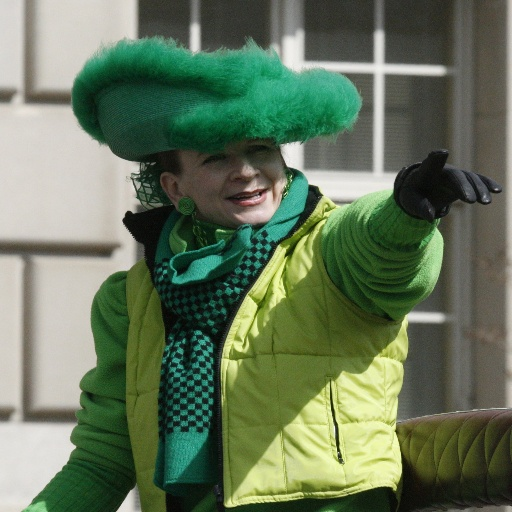hand: (385, 142, 497, 217)
